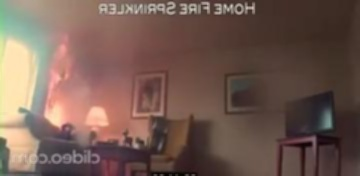fire: (38, 27, 87, 130)
